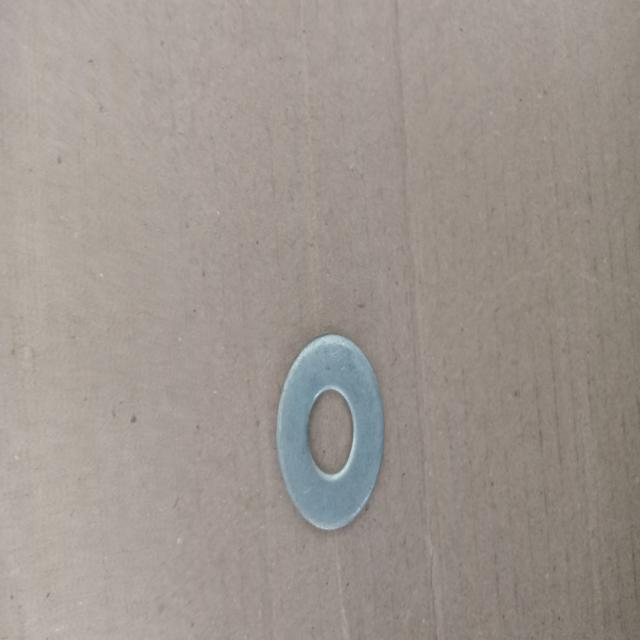washer: (275, 334, 386, 531)
